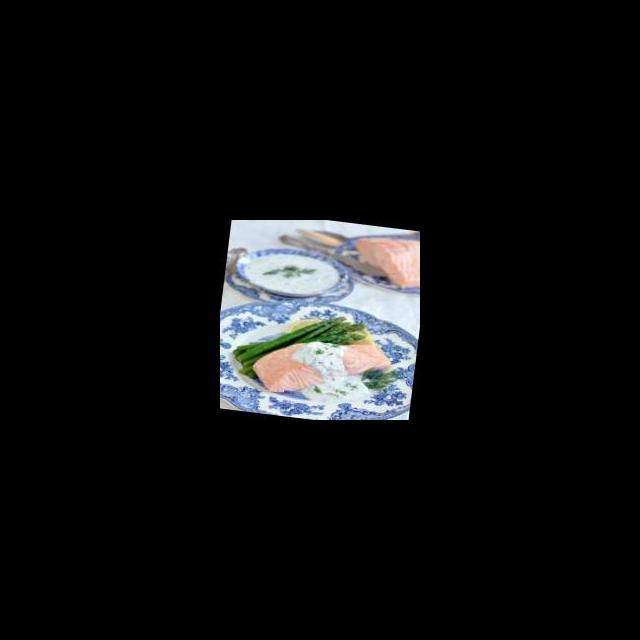ca hoi: (248, 328, 398, 409), (350, 227, 420, 293)
ca hoi sot pho mai kem: (229, 303, 411, 409)
pho mai: (299, 345, 368, 416)
